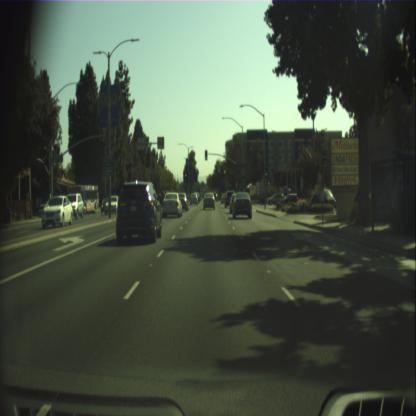Green: (264, 168, 268, 179), (204, 150, 208, 160), (243, 176, 244, 183)
Yellow: (184, 170, 187, 181)
